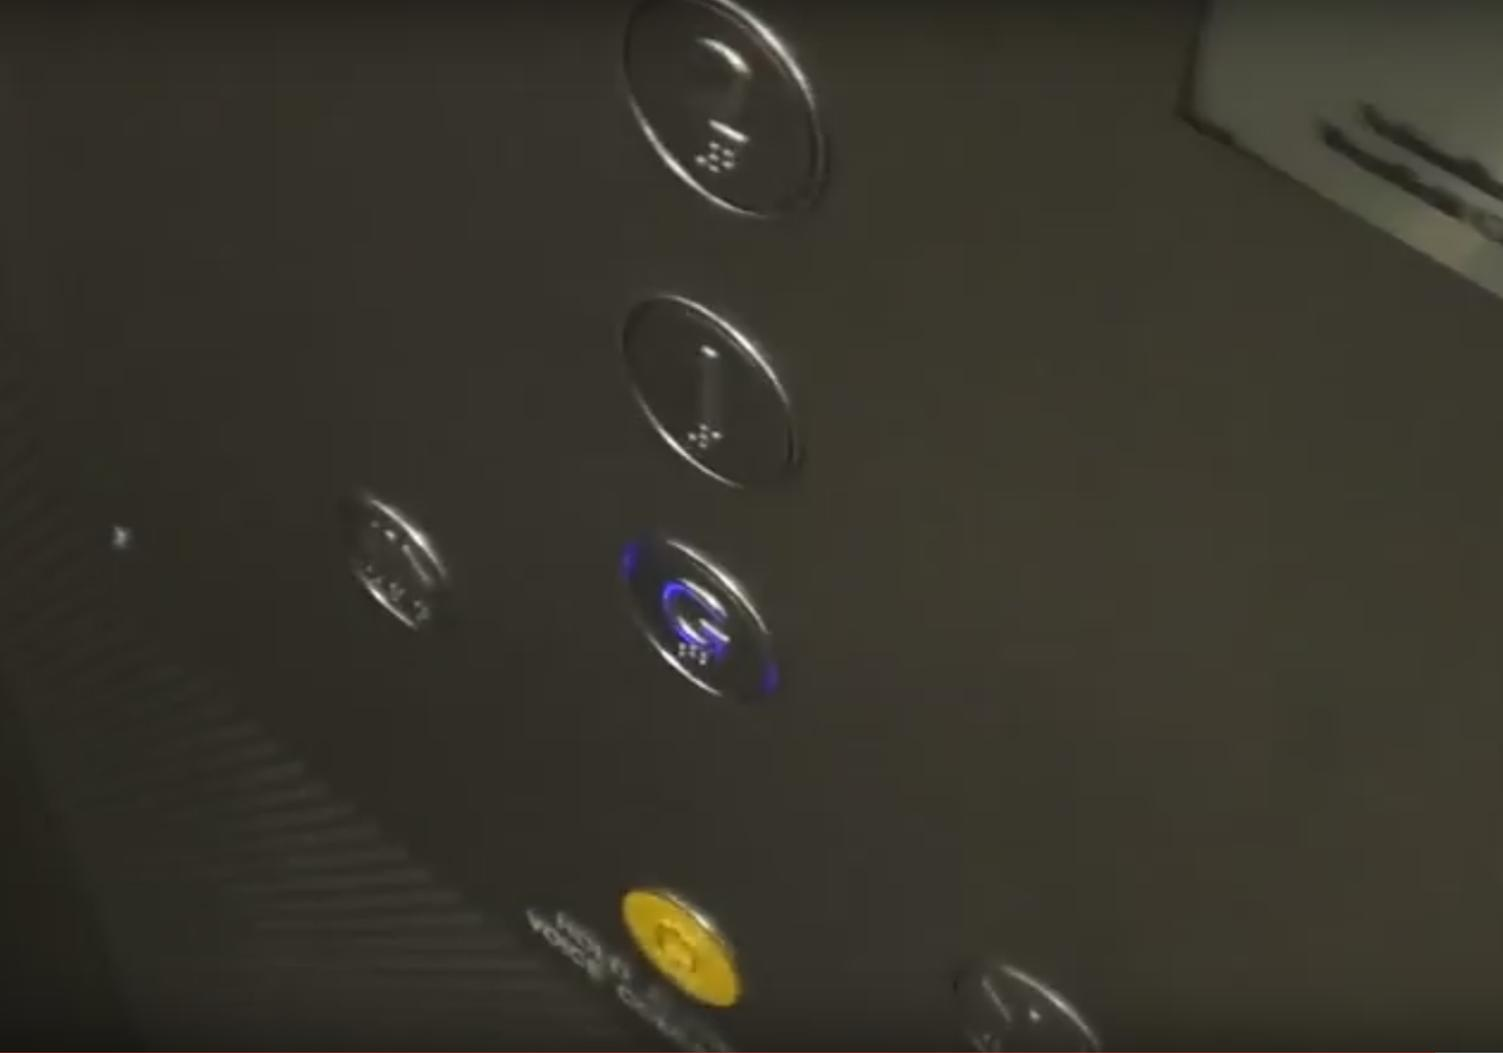1: (612, 283, 802, 498)
2: (605, 1, 835, 235)
G: (612, 529, 783, 714)
alarm: (618, 884, 744, 1008)
open: (337, 487, 455, 642)
